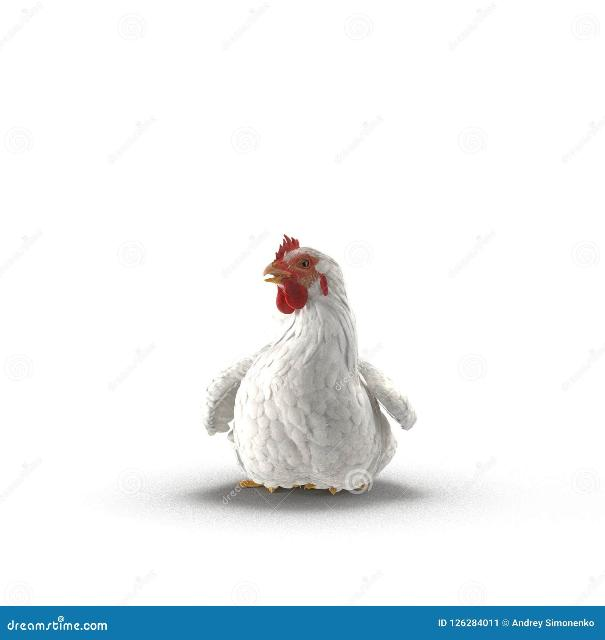Chicken: (206, 234, 419, 495)
